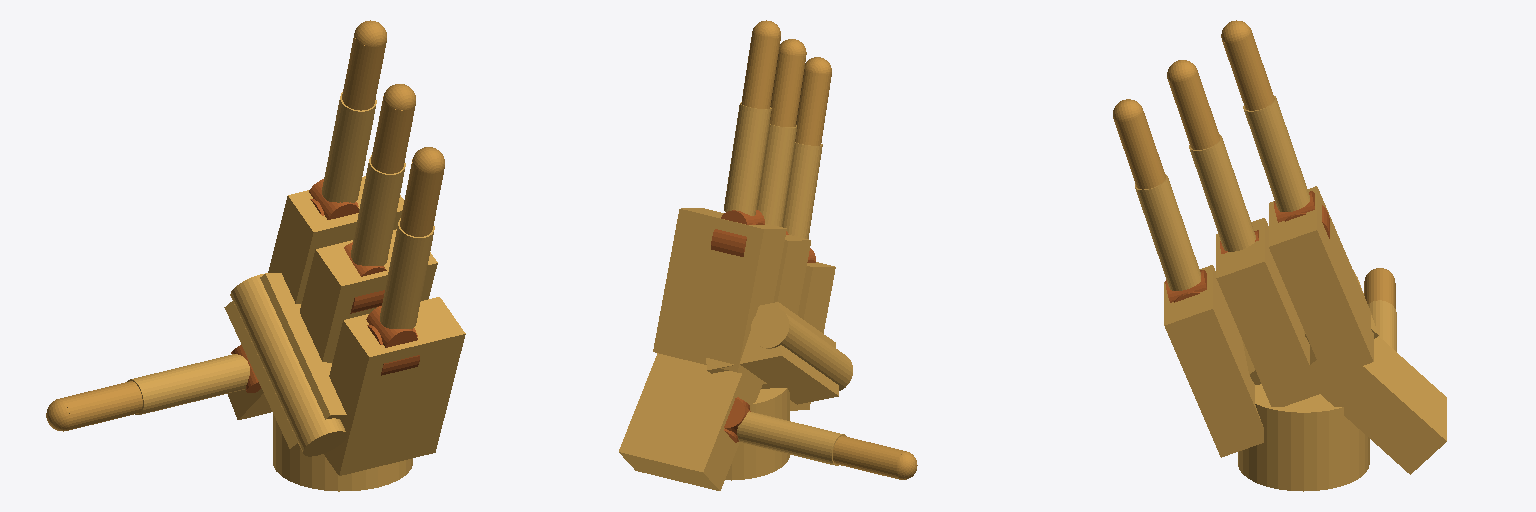
--- Facts derived from the render (not from the file) ---
The picture shows the robot from 3 angles, left to right: view 1: azimuth 30°, elevation 25°; view 2: azimuth 150°, elevation 25°; view 3: azimuth 270°, elevation 25°; orthographic projection.
Robot: sandia_hand_left — 41 links, 40 joints (12 revolute, 28 fixed); root link base; default pose: all joints at 0.
Visible links, largest first — view 1: left_palm, left_f3_1, left_f2_1, left_f1_1, left_f0_1, left_f3_2, left_f1_2, left_f2_2, left_f0_2, left_f2_0, left_f0_0, left_f1_0; view 2: left_palm, left_f0_1, left_f3_1, left_f1_1, left_f2_1, left_f0_2, left_f3_2, left_f2_2, left_f1_2, left_f0_0, left_f3_0; view 3: left_palm, left_f1_1, left_f2_1, left_f0_1, left_f1_2, left_f2_2, left_f0_2, left_f3_2, left_f3_1, left_f0_0.
Boxes of the visible links, x1=… form: left_palm: x1=224, y1=176, x2=465, y2=491; left_f3_1: x1=127, y1=354, x2=249, y2=414; left_f2_1: x1=380, y1=218, x2=434, y2=328; left_f1_1: x1=351, y1=155, x2=405, y2=265; left_f0_1: x1=322, y1=92, x2=376, y2=202; left_f3_2: x1=46, y1=381, x2=142, y2=431; left_f1_2: x1=371, y1=84, x2=415, y2=173; left_f2_2: x1=400, y1=147, x2=444, y2=236; left_f0_2: x1=342, y1=20, x2=386, y2=110; left_f2_0: x1=366, y1=306, x2=419, y2=375; left_f0_0: x1=309, y1=179, x2=358, y2=219; left_f1_0: x1=344, y1=242, x2=386, y2=313; left_palm: x1=619, y1=208, x2=852, y2=490; left_f0_1: x1=724, y1=102, x2=771, y2=215; left_f3_1: x1=737, y1=411, x2=846, y2=465; left_f1_1: x1=757, y1=124, x2=796, y2=226; left_f2_1: x1=782, y1=142, x2=822, y2=238; left_f0_2: x1=741, y1=20, x2=780, y2=108; left_f3_2: x1=833, y1=436, x2=917, y2=479; left_f2_2: x1=795, y1=57, x2=831, y2=145; left_f1_2: x1=770, y1=39, x2=806, y2=126; left_f0_0: x1=711, y1=210, x2=764, y2=256; left_f3_0: x1=724, y1=397, x2=750, y2=442; left_palm: x1=1164, y1=186, x2=1446, y2=491; left_f1_1: x1=1189, y1=134, x2=1255, y2=251; left_f2_1: x1=1135, y1=174, x2=1200, y2=290; left_f0_1: x1=1243, y1=96, x2=1309, y2=211; left_f1_2: x1=1167, y1=60, x2=1219, y2=149; left_f2_2: x1=1113, y1=99, x2=1165, y2=189; left_f0_2: x1=1221, y1=20, x2=1274, y2=110; left_f3_2: x1=1364, y1=268, x2=1395, y2=308; left_f3_1: x1=1368, y1=300, x2=1396, y2=351; left_f0_0: x1=1274, y1=191, x2=1329, y2=238.
Bounding box of the posed robot: 0.196 × 0.1924 × 0.2782 m (x, y, z).
Geometry: primitives only (box / cylinder / sphere), no mesh files.

robot.urdf — sandia_hand_left:
<?xml version="1.0" ?>
<!-- =================================================================================== -->
<!-- |    This document was autogenerated by xacro from sandia_hand_drake_left.urdf.xacro | -->
<!-- |    EDITING THIS FILE BY HAND IS NOT RECOMMENDED                                 | -->
<!-- =================================================================================== -->
<robot name="sandia_hand_left" xmlns:controller="http://playerstage.sourceforge.net/gazebo/xmlschema/#controller" xmlns:interface="http://playerstage.sourceforge.net/gazebo/xmlschema/#interface" xmlns:sensor="http://playerstage.sourceforge.net/gazebo/xmlschema/#sensor" xmlns:xacro="http://www.ros.org/wiki/xacro">
  <!-- derived from /usr/share/sandia-hand-5.1/ros/sandia_hand_description/robots/sandia_hand_left_on_box.urdf.xacro-->
  <!-- Commenting out urdf with meshes, using simple collision shapes instead -->
  <!--<xacro:include filename="$(find mit_drcsim_scripts)/models/mit_robot_hands/drake_urdfs/xacro/sandia_hand_drake.urdf.xacro" />-->
  <link name="base">
    <inertial>
      <mass value="0.001"/>
      <origin rpy="0 0 0" xyz="0 0 0.25"/>
      <inertia ixx="0.000001" ixy="0" ixz="0" iyy="0.000001" iyz="0" izz="0.000001"/>
    </inertial>
    <!-- <visual>
        <origin xyz="0 0 0.25" rpy="0 0 0" />
        <geometry>
            <box size="0.5 0.5 0.5" />
        </geometry>
    </visual>
    <collision>
        <origin xyz="0 0 0.25" rpy="0 0 0" />
        <geometry>
            <box size="0.5 0.5 0.5" />
        </geometry>
    </collision> -->
  </link>
  <link name="left_palm">
    <origin rpy="0 0 0" xyz="0 0 0"/>
    <inertial>
      <mass value="1.303"/>
      <origin xyz="0 0 0"/>
      <!-- solid sphere with 5cm radius -->
      <inertia ixx="0.001303" ixy="0" ixz="0" iyy="0.001303" iyz="0" izz="0.001303"/>
    </inertial>
    <!-- begin simple shape approximation of palm -->
    <!-- <collision group="default">
        <origin xyz="0.069 ${0.016 * reflect} 0.038" rpy="0 ${M_pi/2} ${-0.9 * reflect}"/>
        <geometry>
          <cylinder radius="0.013" length="0.100" />
        </geometry>
      </collision> -->
    <!-- <collision group="other">
        <origin xyz="0.064 ${0.008 * reflect} 0.021" rpy="0.41 0 ${-0.9 * reflect}"/>
        <geometry>
          <box size="0.09 .035 .05" />
        </geometry>
      </collision> -->
    <!-- <collision group="other">
        <origin xyz="0.02 0 -0.005" rpy="0 ${M_pi/2} 0"/>
        <geometry>
          <cylinder radius="0.038" length="0.05" />
        </geometry>
      </collision> -->
    <!-- <collision group="other">
        <origin xyz="0.11 ${-0.01*reflect} -0.005" rpy="0 0 ${0.37*reflect}"/>
        <geometry>
          <box size="0.09 .03 .06" />
        </geometry>
      </collision> -->
    <!-- <collision group="other">
        <origin xyz="0.09 ${0.02*reflect} -0.005" rpy="0 0 ${0.37*reflect}"/>
        <geometry>
          <box size="0.09 .03 .06" />
        </geometry>
      </collision> -->
    <!--<collision group="other">
        <origin xyz="0.060 ${0.050*reflect} -0.005" rpy="0 0 ${0.37*reflect}"/>
        <geometry>
          <box size="0.09 .03 .06" />
        </geometry>
      </collision> -->
    <!-- <collision group="other">
        <origin xyz="0.044 ${-0.04*reflect} -0.005" rpy="0 0 ${0.79*reflect}"/>
        <geometry>
          <box size="0.09 .03 .06" />
        </geometry>
      </collision>-->
    <!--   end simple shape approximation of palm -->
    <!-- begin visual shape approximation of palm -->
    <visual>
      <origin rpy="0 1.57079632679 0.9" xyz="0.069 -0.016 0.038"/>
      <geometry>
        <cylinder length="0.100" radius="0.013"/>
      </geometry>
      <material name="left_sandia_hand_skin">
        <color rgba="0.835 0.655 0.345 1.0"/>
      </material>
    </visual>
    <visual>
      <origin rpy="0.41 0 0.9" xyz="0.064 -0.008 0.021"/>
      <geometry>
        <box size="0.09 .035 .05"/>
      </geometry>
      <material name="left_sandia_hand_skin">
        <color rgba="0.835 0.655 0.345 1.0"/>
      </material>
    </visual>
    <visual>
      <origin rpy="0 1.57079632679 0" xyz="0.02 0 -0.005"/>
      <geometry>
        <cylinder length="0.05" radius="0.038"/>
      </geometry>
      <material name="left_sandia_hand_skin">
        <color rgba="0.835 0.655 0.345 1.0"/>
      </material>
    </visual>
    <visual>
      <origin rpy="0 0 -0.37" xyz="0.11 0.01 -0.005"/>
      <geometry>
        <box size="0.09 .03 .06"/>
      </geometry>
      <material name="left_sandia_hand_skin">
        <color rgba="0.835 0.655 0.345 1.0"/>
      </material>
    </visual>
    <visual>
      <origin rpy="0 0 -0.37" xyz="0.09 -0.02 -0.005"/>
      <geometry>
        <box size="0.09 .03 .06"/>
      </geometry>
      <material name="left_sandia_hand_skin">
        <color rgba="0.835 0.655 0.345 1.0"/>
      </material>
    </visual>
    <visual>
      <origin rpy="0 0 -0.37" xyz="0.060 -0.05 -0.005"/>
      <geometry>
        <box size="0.09 .03 .06"/>
      </geometry>
      <material name="left_sandia_hand_skin">
        <color rgba="0.835 0.655 0.345 1.0"/>
      </material>
    </visual>
    <visual>
      <origin rpy="0 0 -0.79" xyz="0.044 0.04 -0.005"/>
      <geometry>
        <box size="0.09 .03 .06"/>
      </geometry>
      <material name="left_sandia_hand_skin">
        <color rgba="0.835 0.655 0.345 1.0"/>
      </material>
    </visual>
    <!--   end visual shape approximation of palm -->
    <!-- begin collision mesh of f2 ->
      <collision group="default">
        <origin xyz="0 0 0" rpy="0 0 0"/>
        <geometry>
          <mesh filename="package://sandia_hand_description/meshes/palm.stl"/>
        </geometry>
      </collision>
      <!-   end collision mesh of f2 -->
    <!-- begin visual mesh of f2    ->
      <visual>
        <origin xyz="0 0 0" rpy="0 0 0"/>
        <geometry>
          <mesh filename="package://sandia_hand_description/meshes/palm.stl"/>
        </geometry>
        <material name="${side}_sandia_hand_skin">
          <color rgba="0.835 0.655 0.345 1.0"/>
        </material>
      </visual>
      <!-   end visual mesh of f2 -->
  </link>
  <joint name="left_sandia_hand_joint" type="fixed">
    <parent link="base"/>
    <child link="left_palm"/>
    <origin rpy="0 -1.57079 0" xyz="0 0 0.0"/>
  </joint>
  <link name="left_f0_base">
    <origin rpy="0 0 0" xyz="0 0 0"/>
    <inertial>
      <!-- total mass is 2.303 kg, palm is about 1.303 kg, distribute the rest into _base -->
      <mass value="0.250"/>
      <!-- (2.303 - 1.303) / 4 -->
      <origin xyz="0 0 0"/>
      <!-- model as sphere with radius of 1cm -->
      <inertia ixx="0.00001" ixy="0" ixz="0" iyy="0.00001" iyz="0" izz="0.00001"/>
    </inertial>
  </link>
  <link name="left_f0_fixed_accel">
    <origin rpy="0 0 0" xyz="0 0 0"/>
    <inertial>
      <mass value="0.01"/>
      <origin xyz="0 0 0"/>
      <inertia ixx="0.000001" ixy="0" ixz="0" iyy="0.000001" iyz="0" izz="0.000001"/>
    </inertial>
    <!-- ############ MIT ADDITION ############ -->
    <collision>
      <origin rpy="0 0 0" xyz="0 0 0.05"/>
      <geometry>
        <sphere radius="0"/>
      </geometry>
    </collision>
    <!-- ############    END     ############ -->
  </link>
  <link name="left_f0_0">
    <origin rpy="0 0 0" xyz="0 0 0"/>
    <inertial>
      <mass value="0.106"/>
      <!-- F1 -->
      <origin xyz="0 0 0"/>
      <!-- solid cylinder -->
      <inertia ixx="0.000011925" ixy="0" ixz="0" iyy="0.00011505" iyz="0" izz="0.00011505"/>
    </inertial>
    <!-- begin simple shape approximation of f0 -->
    <!-- <collision group="default">
        <origin xyz="0 0 0.003" rpy="0 0 0"/>
        <geometry>
          <cylinder radius="0.015" length="0.023" />
        </geometry>
      </collision> -->
    <!-- <collision group="other">
        <origin xyz="0.011 0 0.003" rpy="${M_pi/2} 0 0"/>
        <geometry>
          <cylinder radius="0.01" length="0.023" />
        </geometry>
      </collision> -->
    <!--   end simple shape approximation of f0 -->
    <!-- begin visual shape approximation of f0 -->
    <visual>
      <origin rpy="0 0 0" xyz="0 0 0.003"/>
      <geometry>
        <cylinder length="0.023" radius="0.015"/>
      </geometry>
      <material name="left_sandia_hand_skin_suntan">
        <color rgba="0.7 0.4 0.2 1.0"/>
      </material>
    </visual>
    <visual>
      <origin rpy="1.57079632679 0 0" xyz="0.011 0 0.003"/>
      <geometry>
        <cylinder length="0.023" radius="0.01"/>
      </geometry>
      <material name="left_sandia_hand_skin_suntan">
        <color rgba="0.7 0.4 0.2 1.0"/>
      </material>
    </visual>
    <!--   end visual shape approximation of f0 -->
    <!-- begin collision mesh of f0 ->
      <collision group="default">
        <origin xyz="0 0 0" rpy="0 0 0"/>
        <geometry>
          <mesh filename="package://sandia_hand_description/meshes/f0.stl"/>
        </geometry>
      </collision>
      <!-   end collision mesh of f0 -->
    <!-- begin visual mesh of f0 ->
      <visual>
        <origin xyz="0 0 0" rpy="0 0 0"/>
        <geometry>
          <mesh filename="package://sandia_hand_description/meshes/f0.stl"/>
        </geometry>
        <material name="${side}_sandia_hand_skin_suntan">
          <color rgba="0.7 0.4 0.2 1.0"/>
        </material>
      </visual>
      <!-   end visual mesh of f0 -->
  </link>
  <link name="left_f0_1">
    <origin rpy="0 0 0" xyz="0 0 0"/>
    <inertial>
      <mass value="0.033"/>
      <!-- F2 -->
      <origin xyz="0 0 0"/>
      <!-- solid cylinder -->
      <inertia ixx="0.00000165" ixy="0" ixz="0" iyy="0.00001316975" iyz="0" izz="0.00001316975"/>
    </inertial>
    <!-- begin simple shape approximation of f1 -->
    <!-- <collision group="default">
        <origin xyz="0.024 0 0" rpy="0 ${M_pi/2} 0"/>
        <geometry>
          <cylinder radius="0.01" length="0.067" />
        </geometry>
      </collision> -->
    <!--   end simple shape approximation of f1 -->
    <!-- begin visual shape approximation of f1 -->
    <visual>
      <origin rpy="0 1.57079632679 0" xyz="0.024 0 0"/>
      <geometry>
        <cylinder length="0.067" radius="0.01"/>
      </geometry>
      <material name="left_sandia_hand_skin">
        <color rgba="0.835 0.655 0.345 1.0"/>
      </material>
    </visual>
    <!--   end visual shape approximation of f1 -->
    <!-- begin collision mesh of f1 ->
      <collision group="default">
        <origin xyz="0 0 0" rpy="0 0 0"/>
        <geometry>
          <mesh filename="package://sandia_hand_description/meshes/f1.stl"/>
        </geometry>
      </collision>
      <!-   end collision mesh of f1 -->
    <!-- begin visual mesh of f1 ->
      <visual>
        <origin xyz="0 0 0" rpy="0 0 0"/>
        <geometry>
          <mesh filename="package://sandia_hand_description/meshes/f1.stl"/>
        </geometry>
        <material name="${side}_sandia_hand_skin">
          <color rgba="0.835 0.655 0.345 1.0"/>
        </material>
      </visual>
      <!-   end visual mesh of f1 -->
  </link>
  <link name="left_f0_1_accel">
    <origin rpy="0 0 0" xyz="0 0 0"/>
    <inertial>
      <mass value="0.01"/>
      <origin xyz="0 0 0"/>
      <inertia ixx="0.000001" ixy="0" ixz="0" iyy="0.000001" iyz="0" izz="0.000001"/>
    </inertial>
    <!-- ############ MIT ADDITION ############ -->
    <!--      <collision>-->
    <!--        <origin rpy="0 0 0" xyz="0 0 0.01"/>-->
    <!--        <geometry>-->
    <!--          <sphere radius="0"/>-->
    <!--        </geometry>-->
    <!--      </collision>  -->
    <!-- ############    END     ############ -->
  </link>
  <link name="left_f0_2">
    <origin rpy="0 0 0" xyz="0 0 0"/>
    <inertial>
      <mass value="0.033"/>
      <!-- F3 -->
      <origin xyz="0 0 0"/>
      <!-- solid cylinder -->
      <inertia ixx="0.0000013365" ixy="0" ixz="0" iyy="0.000009603" iyz="0" izz="0.000009603"/>
    </inertial>
    <!-- begin simple shape approximation of f2 -->
    <!-- <collision group="default">
        <origin xyz="0.024 0 0" rpy="0 ${M_pi/2} 0"/>
        <geometry>
          <cylinder radius="0.009" length="0.057" />
        </geometry>
      </collision> -->
    <!-- <collision group="other">
        <origin xyz="0.052 0 0" rpy="0 0 0"/>
        <geometry>
          <sphere radius="0.009" />
        </geometry>
      </collision> -->
    <!--   end simple shape approximation of f2 -->
    <!-- begin visual shape approximation of f2 -->
    <visual>
      <origin rpy="0 1.57079632679 0" xyz="0.024 0 0"/>
      <geometry>
        <cylinder length="0.057" radius="0.009"/>
      </geometry>
      <material name="left_sandia_hand_skin_suntan">
        <color rgba="0.8 0.6 0.3 1.0"/>
      </material>
    </visual>
    <visual>
      <origin rpy="0 0 0" xyz="0.052 0 0"/>
      <geometry>
        <sphere radius="0.009"/>
      </geometry>
      <material name="left_sandia_hand_skin_suntan">
        <color rgba="0.8 0.6 0.3 1.0"/>
      </material>
    </visual>
    <!-- begin collision mesh of f2    ->
      <collision group="default">
        <origin xyz="0 0 0" rpy="0 0 0"/>
        <geometry>
          <mesh filename="package://sandia_hand_description/meshes/f2.stl"/>
        </geometry>
      </collision>
      <!-   end collision mesh of f2 -->
    <!-- begin visual mesh of f2    ->
      <visual>
        <origin xyz="0 0 0" rpy="0 0 0"/>
        <geometry>
          <mesh filename="package://sandia_hand_description/meshes/f2.stl"/>
        </geometry>
        <material name="${side}_sandia_hand_skin_suntan">
          <color rgba="0.8 0.6 0.3 1.0"/>
        </material>
      </visual>
      <!-   end visual mesh of f2 -->
  </link>
  <link name="left_f0_2_accel">
    <origin rpy="0 0 0" xyz="0 0 0"/>
    <inertial>
      <mass value="0.01"/>
      <origin xyz="0 0 0"/>
      <inertia ixx="0.000001" ixy="0" ixz="0" iyy="0.000001" iyz="0" izz="0.000001"/>
    </inertial>
    <!-- ############ MIT ADDITION ############ -->
    <collision>
      <origin rpy="0 0 0" xyz="0 0 0.01"/>
      <geometry>
        <sphere radius="0"/>
      </geometry>
    </collision>
    <!-- ############    END     ############ -->
  </link>
  <link name="left_f0_2_accel_dummy1">
    <origin rpy="0 0 0" xyz="0 0 0"/>
    <inertial>
      <mass value="0.001"/>
      <origin xyz="0 0 0"/>
      <inertia ixx="0.01" ixy="0" ixz="0" iyy="0.01" iyz="0" izz="0.01"/>
    </inertial>
    <collision>
      <origin rpy="0 0 0" xyz="-0.02 0.0 0.01"/>
      <geometry>
        <sphere radius="0"/>
      </geometry>
    </collision>
  </link>
  <joint name="left_f0_2_accel_dummy1" type="fixed">
    <parent link="left_f0_2"/>
    <child link="left_f0_2_accel_dummy1"/>
    <origin rpy="-1.57079632679 0 0" xyz="0.04 0 0"/>
  </joint>
  <link name="left_f0_2_accel_dummy2">
    <origin rpy="0 0 0" xyz="0 0 0"/>
    <inertial>
      <mass value="0.001"/>
      <origin xyz="0 0 0"/>
      <inertia ixx="0.01" ixy="0" ixz="0" iyy="0.01" iyz="0" izz="0.01"/>
    </inertial>
    <collision>
      <origin rpy="0 0 0" xyz="0.0 0.0 -0.01"/>
      <geometry>
        <sphere radius="0"/>
      </geometry>
    </collision>
  </link>
  <joint name="left_f0_2_accel_dummy2" type="fixed">
    <parent link="left_f0_2"/>
    <child link="left_f0_2_accel_dummy2"/>
    <origin rpy="-1.57079632679 0 0" xyz="0.04 0 0"/>
  </joint>
  <joint name="left_f0_base" type="fixed">
    <parent link="left_palm"/>
    <child link="left_f0_base"/>
    <origin rpy="0 0 -0.3" xyz="0.14 0.0 0"/>
  </joint>
  <joint name="left_f0_j1" type="revolute">
    <axis xyz="0 0 1"/>
    <parent link="left_f0_0"/>
    <child link="left_f0_1"/>
    <limit effort="1" lower="-1.57079632679" upper="1.57079632679" velocity="1"/>
    <safety_controller k_position="1000.0" k_velocity="1000.0" soft_lower_limit="-11.57079" soft_upper_limit="11.57079"/>
    <dynamics damping="0.2"/>
    <origin rpy="1.57079632679 0 0" xyz="0.028 0 0"/>
  </joint>
  <joint name="left_f0_j2" type="revolute">
    <axis xyz="0 0 1"/>
    <parent link="left_f0_1"/>
    <child link="left_f0_2"/>
    <origin rpy="0 0 0" xyz="0.05 0 0"/>
    <safety_controller k_position="1000.0" k_velocity="1000.0" soft_lower_limit="-11.57079" soft_upper_limit="11.57079"/>
    <dynamics damping="0.2"/>
    <limit effort="1" lower="-1.57079632679" upper="1.57079632679" velocity="1"/>
  </joint>
  <joint name="left_f0_fixed_accel" type="fixed">
    <parent link="left_f0_base"/>
    <child link="left_f0_fixed_accel"/>
    <origin rpy="0 0 0" xyz="-0.05 0 0"/>
  </joint>
  <joint name="left_f0_1_accel" type="fixed">
    <parent link="left_f0_1"/>
    <child link="left_f0_1_accel"/>
    <origin rpy="-1.57079632679 0 0" xyz="0.03 0 0"/>
  </joint>
  <joint name="left_f0_2_accel" type="fixed">
    <parent link="left_f0_2"/>
    <child link="left_f0_2_accel"/>
    <origin rpy="-1.57079632679 0 0" xyz="0.04 0 0"/>
  </joint>
  <link name="left_f0_knuckle_dummy_contact">
    <origin rpy="0 0 0" xyz="0 0 0"/>
    <inertial>
      <mass value="0.001"/>
      <origin xyz="0 0 0"/>
      <inertia ixx="0.001" ixy="0" ixz="0" iyy="0.001" iyz="0" izz="0.001"/>
    </inertial>
    <collision>
      <origin rpy="0 0 0" xyz="0.058 0 0.034"/>
      <!--TODO: THERE IS A ERROR HERE: xyz needs to be "0.058 0 0.034" instead of "0.1 0 0.05"-->
      <geometry>
        <sphere radius="0"/>
      </geometry>
    </collision>
  </link>
  <joint name="left_f0_knuckle_dummy_contact" type="fixed">
    <parent link="left_f0_base"/>
    <child link="left_f0_knuckle_dummy_contact"/>
    <origin rpy="0 0 0" xyz="-0.05 0 0"/>
  </joint>
  <transmission name="left_f0_j0" type="pr2_mechanism_model/SimpleTransmission">
    <joint name="left_f0_j0"/>
    <actuator name="left_f0_j0_motor"/>
    <mechanicalReduction>1</mechanicalReduction>
  </transmission>
  <transmission name="left_f0_j1" type="pr2_mechanism_model/SimpleTransmission">
    <joint name="left_f0_j1"/>
    <actuator name="left_f0_j1_motor"/>
    <mechanicalReduction>1</mechanicalReduction>
  </transmission>
  <transmission name="left_f0_j2" type="pr2_mechanism_model/SimpleTransmission">
    <joint name="left_f0_j2"/>
    <actuator name="left_f0_j2_motor"/>
    <mechanicalReduction>1</mechanicalReduction>
  </transmission>
  <link name="left_f1_base">
    <origin rpy="0 0 0" xyz="0 0 0"/>
    <inertial>
      <!-- total mass is 2.303 kg, palm is about 1.303 kg, distribute the rest into _base -->
      <mass value="0.250"/>
      <!-- (2.303 - 1.303) / 4 -->
      <origin xyz="0 0 0"/>
      <!-- model as sphere with radius of 1cm -->
      <inertia ixx="0.00001" ixy="0" ixz="0" iyy="0.00001" iyz="0" izz="0.00001"/>
    </inertial>
  </link>
  <link name="left_f1_fixed_accel">
    <origin rpy="0 0 0" xyz="0 0 0"/>
    <inertial>
      <mass value="0.01"/>
      <origin xyz="0 0 0"/>
      <inertia ixx="0.000001" ixy="0" ixz="0" iyy="0.000001" iyz="0" izz="0.000001"/>
    </inertial>
    <!-- ############ MIT ADDITION ############ -->
    <collision>
      <origin rpy="0 0 0" xyz="0 0 0.05"/>
      <geometry>
        <sphere radius="0"/>
      </geometry>
    </collision>
    <!-- ############    END     ############ -->
  </link>
  <link name="left_f1_0">
    <origin rpy="0 0 0" xyz="0 0 0"/>
    <inertial>
      <mass value="0.106"/>
      <!-- F1 -->
      <origin xyz="0 0 0"/>
      <!-- solid cylinder -->
      <inertia ixx="0.000011925" ixy="0" ixz="0" iyy="0.00011505" iyz="0" izz="0.00011505"/>
    </inertial>
    <!-- begin simple shape approximation of f0 -->
    <!-- <collision group="default">
        <origin xyz="0 0 0.003" rpy="0 0 0"/>
        <geometry>
          <cylinder radius="0.015" length="0.023" />
        </geometry>
      </collision> -->
    <!-- <collision group="other">
        <origin xyz="0.011 0 0.003" rpy="${M_pi/2} 0 0"/>
        <geometry>
          <cylinder radius="0.01" length="0.023" />
        </geometry>
      </collision> -->
    <!--   end simple shape approximation of f0 -->
    <!-- begin visual shape approximation of f0 -->
    <visual>
      <origin rpy="0 0 0" xyz="0 0 0.003"/>
      <geometry>
        <cylinder length="0.023" radius="0.015"/>
      </geometry>
      <material name="left_sandia_hand_skin_suntan">
        <color rgba="0.7 0.4 0.2 1.0"/>
      </material>
    </visual>
    <visual>
      <origin rpy="1.57079632679 0 0" xyz="0.011 0 0.003"/>
      <geometry>
        <cylinder length="0.023" radius="0.01"/>
      </geometry>
      <material name="left_sandia_hand_skin_suntan">
        <color rgba="0.7 0.4 0.2 1.0"/>
      </material>
    </visual>
    <!--   end visual shape approximation of f0 -->
    <!-- begin collision mesh of f0 ->
      <collision group="default">
        <origin xyz="0 0 0" rpy="0 0 0"/>
        <geometry>
          <mesh filename="package://sandia_hand_description/meshes/f0.stl"/>
        </geometry>
      </collision>
      <!-   end collision mesh of f0 -->
    <!-- begin visual mesh of f0 ->
      <visual>
        <origin xyz="0 0 0" rpy="0 0 0"/>
        <geometry>
          <mesh filename="package://sandia_hand_description/meshes/f0.stl"/>
        </geometry>
        <material name="${side}_sandia_hand_skin_suntan">
          <color rgba="0.7 0.4 0.2 1.0"/>
        </material>
      </visual>
      <!-   end visual mesh of f0 -->
  </link>
  <link name="left_f1_1">
    <origin rpy="0 0 0" xyz="0 0 0"/>
    <inertial>
      <mass value="0.033"/>
      <!-- F2 -->
      <origin xyz="0 0 0"/>
      <!-- solid cylinder -->
      <inertia ixx="0.00000165" ixy="0" ixz="0" iyy="0.00001316975" iyz="0" izz="0.00001316975"/>
    </inertial>
    <!-- begin simple shape approximation of f1 -->
    <!-- <collision group="default">
        <origin xyz="0.024 0 0" rpy="0 ${M_pi/2} 0"/>
        <geometry>
          <cylinder radius="0.01" length="0.067" />
        </geometry>
      </collision> -->
    <!--   end simple shape approximation of f1 -->
    <!-- begin visual shape approximation of f1 -->
    <visual>
      <origin rpy="0 1.57079632679 0" xyz="0.024 0 0"/>
      <geometry>
        <cylinder length="0.067" radius="0.01"/>
      </geometry>
      <material name="left_sandia_hand_skin">
        <color rgba="0.835 0.655 0.345 1.0"/>
      </material>
    </visual>
    <!--   end visual shape approximation of f1 -->
    <!-- begin collision mesh of f1 ->
      <collision group="default">
        <origin xyz="0 0 0" rpy="0 0 0"/>
        <geometry>
          <mesh filename="package://sandia_hand_description/meshes/f1.stl"/>
        </geometry>
      </collision>
      <!-   end collision mesh of f1 -->
    <!-- begin visual mesh of f1 ->
      <visual>
        <origin xyz="0 0 0" rpy="0 0 0"/>
        <geometry>
          <mesh filename="package://sandia_hand_description/meshes/f1.stl"/>
        </geometry>
        <material name="${side}_sandia_hand_skin">
          <color rgba="0.835 0.655 0.345 1.0"/>
        </material>
      </visual>
      <!-   end visual mesh of f1 -->
  </link>
  <link name="left_f1_1_accel">
    <origin rpy="0 0 0" xyz="0 0 0"/>
    <inertial>
      <mass value="0.01"/>
      <origin xyz="0 0 0"/>
      <inertia ixx="0.000001" ixy="0" ixz="0" iyy="0.000001" iyz="0" izz="0.000001"/>
    </inertial>
    <!-- ############ MIT ADDITION ############ -->
    <!--      <collision>-->
    <!--        <origin rpy="0 0 0" xyz="0 0 0.01"/>-->
    <!--        <geometry>-->
    <!--          <sphere radius="0"/>-->
    <!--        </geometry>-->
    <!--      </collision>  -->
    <!-- ############    END     ############ -->
  </link>
  <link name="left_f1_2">
    <origin rpy="0 0 0" xyz="0 0 0"/>
    <inertial>
      <mass value="0.033"/>
      <!-- F3 -->
      <origin xyz="0 0 0"/>
      <!-- solid cylinder -->
      <inertia ixx="0.0000013365" ixy="0" ixz="0" iyy="0.000009603" iyz="0" izz="0.000009603"/>
    </inertial>
    <!-- begin simple shape approximation of f2 -->
    <!-- <collision group="default">
        <origin xyz="0.024 0 0" rpy="0 ${M_pi/2} 0"/>
        <geometry>
          <cylinder radius="0.009" length="0.057" />
        </geometry>
      </collision> -->
    <!-- <collision group="other">
        <origin xyz="0.052 0 0" rpy="0 0 0"/>
        <geometry>
          <sphere radius="0.009" />
        </geometry>
      </collision> -->
    <!--   end simple shape approximation of f2 -->
    <!-- begin visual shape approximation of f2 -->
    <visual>
      <origin rpy="0 1.57079632679 0" xyz="0.024 0 0"/>
      <geometry>
        <cylinder length="0.057" radius="0.009"/>
      </geometry>
      <material name="left_sandia_hand_skin_suntan">
        <color rgba="0.8 0.6 0.3 1.0"/>
      </material>
    </visual>
    <visual>
      <origin rpy="0 0 0" xyz="0.052 0 0"/>
      <geometry>
        <sphere radius="0.009"/>
      </geometry>
      <material name="left_sandia_hand_skin_suntan">
        <color rgba="0.8 0.6 0.3 1.0"/>
      </material>
    </visual>
    <!-- begin collision mesh of f2    ->
      <collision group="default">
        <origin xyz="0 0 0" rpy="0 0 0"/>
        <geometry>
          <mesh filename="package://sandia_hand_description/meshes/f2.stl"/>
        </geometry>
      </collision>
      <!-   end collision mesh of f2 -->
    <!-- begin visual mesh of f2    ->
      <visual>
        <origin xyz="0 0 0" rpy="0 0 0"/>
        <geometry>
          <mesh filename="package://sandia_hand_description/meshes/f2.stl"/>
        </geometry>
        <material name="${side}_sandia_hand_skin_suntan">
          <color rgba="0.8 0.6 0.3 1.0"/>
        </material>
      </visual>
      <!-   end visual mesh of f2 -->
  </link>
  <link name="left_f1_2_accel">
    <origin rpy="0 0 0" xyz="0 0 0"/>
    <inertial>
      <mass value="0.01"/>
      <origin xyz="0 0 0"/>
      <inertia ixx="0.000001" ixy="0" ixz="0" iyy="0.000001" iyz="0" izz="0.000001"/>
    </inertial>
    <!-- ############ MIT ADDITION ############ -->
    <collision>
      <origin rpy="0 0 0" xyz="0 0 0.01"/>
      <geometry>
        <sphere radius="0"/>
      </geometry>
    </collision>
    <!-- ############    END     ############ -->
  </link>
  <link name="left_f1_2_accel_dummy1">
    <origin rpy="0 0 0" xyz="0 0 0"/>
    <inertial>
      <mass value="0.001"/>
      <origin xyz="0 0 0"/>
      <inertia ixx="0.01" ixy="0" ixz="0" iyy="0.01" iyz="0" izz="0.01"/>
    </inertial>
    <collision>
      <origin rpy="0 0 0" xyz="-0.02 0.0 0.01"/>
      <geometry>
        <sphere radius="0"/>
      </geometry>
    </collision>
  </link>
  <joint name="left_f1_2_accel_dummy1" type="fixed">
    <parent link="left_f1_2"/>
    <child link="left_f1_2_accel_dummy1"/>
    <origin rpy="-1.57079632679 0 0" xyz="0.04 0 0"/>
  </joint>
  <link name="left_f1_2_accel_dummy2">
    <origin rpy="0 0 0" xyz="0 0 0"/>
    <inertial>
      <mass value="0.001"/>
      <origin xyz="0 0 0"/>
      <inertia ixx="0.01" ixy="0" ixz="0" iyy="0.01" iyz="0" izz="0.01"/>
    </inertial>
    <collision>
      <origin rpy="0 0 0" xyz="0.0 0.0 -0.01"/>
      <geometry>
        <sphere radius="0"/>
      </geometry>
    </collision>
  </link>
  <joint name="left_f1_2_accel_dummy2" type="fixed">
    <parent link="left_f1_2"/>
    <child link="left_f1_2_accel_dummy2"/>
    <origin rpy="-1.57079632679 0 0" xyz="0.04 0 0"/>
  </joint>
  <joint name="left_f1_base" type="fixed">
    <parent link="left_palm"/>
    <child link="left_f1_base"/>
    <origin rpy="0 0 -0.3" xyz="0.115 -0.03122 0"/>
  </joint>
  <joint name="left_f1_j1" type="revolute">
    <axis xyz="0 0 1"/>
    <parent link="left_f1_0"/>
    <child link="left_f1_1"/>
    <limit effort="1" lower="-1.57079632679" upper="1.57079632679" velocity="1"/>
    <safety_controller k_position="1000.0" k_velocity="1000.0" soft_lower_limit="-11.57079" soft_upper_limit="11.57079"/>
    <dynamics damping="0.2"/>
    <origin rpy="1.57079632679 0 0" xyz="0.028 0 0"/>
  </joint>
  <joint name="left_f1_j2" type="revolute">
    <axis xyz="0 0 1"/>
    <parent link="left_f1_1"/>
    <child link="left_f1_2"/>
    <origin rpy="0 0 0" xyz="0.05 0 0"/>
    <safety_controller k_position="1000.0" k_velocity="1000.0" soft_lower_limit="-11.57079" soft_upper_limit="11.57079"/>
    <dynamics damping="0.2"/>
    <limit effort="1" lower="-1.57079632679" upper="1.57079632679" velocity="1"/>
  </joint>
  <joint name="left_f1_fixed_accel" type="fixed">
    <parent link="left_f1_base"/>
    <child link="left_f1_fixed_accel"/>
    <origin rpy="0 0 0" xyz="-0.05 0 0"/>
  </joint>
  <joint name="left_f1_1_accel" type="fixed">
    <parent link="left_f1_1"/>
    <child link="left_f1_1_accel"/>
    <origin rpy="-1.57079632679 0 0" xyz="0.03 0 0"/>
  </joint>
  <joint name="left_f1_2_accel" type="fixed">
    <parent link="left_f1_2"/>
    <child link="left_f1_2_accel"/>
    <origin rpy="-1.57079632679 0 0" xyz="0.04 0 0"/>
  </joint>
  <link name="left_f1_knuckle_dummy_contact">
    <origin rpy="0 0 0" xyz="0 0 0"/>
    <inertial>
      <mass value="0.001"/>
      <origin xyz="0 0 0"/>
      <inertia ixx="0.001" ixy="0" ixz="0" iyy="0.001" iyz="0" izz="0.001"/>
    </inertial>
    <collision>
      <origin rpy="0 0 0" xyz="0.058 0 0.034"/>
      <!--TODO: THERE IS A ERROR HERE: xyz needs to be "0.058 0 0.034" instead of "0.1 0 0.05"-->
      <geometry>
        <sphere radius="0"/>
      </geometry>
    </collision>
  </link>
  <joint name="left_f1_knuckle_dummy_contact" type="fixed">
    <parent link="left_f1_base"/>
    <child link="left_f1_knuckle_dummy_contact"/>
    <origin rpy="0 0 0" xyz="-0.05 0 0"/>
  </joint>
  <transmission name="left_f1_j0" type="pr2_mechanism_model/SimpleTransmission">
    <joint name="left_f1_j0"/>
    <actuator name="left_f1_j0_motor"/>
    <mechanicalReduction>1</mechanicalReduction>
  </transmission>
  <transmission name="left_f1_j1" type="pr2_mechanism_model/SimpleTransmission">
    <joint name="left_f1_j1"/>
    <actuator name="left_f1_j1_motor"/>
    <mechanicalReduction>1</mechanicalReduction>
  </transmission>
  <transmission name="left_f1_j2" type="pr2_mechanism_model/SimpleTransmission">
    <joint name="left_f1_j2"/>
    <actuator name="left_f1_j2_motor"/>
    <mechanicalReduction>1</mechanicalReduction>
  </transmission>
  <link name="left_f2_base">
    <origin rpy="0 0 0" xyz="0 0 0"/>
    <inertial>
      <!-- total mass is 2.303 kg, palm is about 1.303 kg, distribute the rest into _base -->
      <mass value="0.250"/>
      <!-- (2.303 - 1.303) / 4 -->
      <origin xyz="0 0 0"/>
      <!-- model as sphere with radius of 1cm -->
      <inertia ixx="0.00001" ixy="0" ixz="0" iyy="0.00001" iyz="0" izz="0.00001"/>
    </inertial>
  </link>
  <link name="left_f2_fixed_accel">
    <origin rpy="0 0 0" xyz="0 0 0"/>
    <inertial>
      <mass value="0.01"/>
      <origin xyz="0 0 0"/>
      <inertia ixx="0.000001" ixy="0" ixz="0" iyy="0.000001" iyz="0" izz="0.000001"/>
    </inertial>
    <!-- ############ MIT ADDITION ############ -->
    <collision>
      <origin rpy="0 0 0" xyz="0 0 0.05"/>
      <geometry>
        <sphere radius="0"/>
      </geometry>
    </collision>
    <!-- ############    END     ############ -->
  </link>
  <link name="left_f2_0">
    <origin rpy="0 0 0" xyz="0 0 0"/>
    <inertial>
      <mass value="0.106"/>
      <!-- F1 -->
      <origin xyz="0 0 0"/>
      <!-- solid cylinder -->
      <inertia ixx="0.000011925" ixy="0" ixz="0" iyy="0.00011505" iyz="0" izz="0.00011505"/>
    </inertial>
    <!-- begin simple shape approximation of f0 -->
    <!-- <collision group="default">
        <origin xyz="0 0 0.003" rpy="0 0 0"/>
        <geometry>
          <cylinder radius="0.015" length="0.023" />
        </geometry>
      </collision> -->
    <!-- <collision group="other">
        <origin xyz="0.011 0 0.003" rpy="${M_pi/2} 0 0"/>
        <geometry>
          <cylinder radius="0.01" length="0.023" />
        </geometry>
      </collision> -->
    <!--   end simple shape approximation of f0 -->
    <!-- begin visual shape approximation of f0 -->
    <visual>
      <origin rpy="0 0 0" xyz="0 0 0.003"/>
      <geometry>
        <cylinder length="0.023" radius="0.015"/>
      </geometry>
      <material name="left_sandia_hand_skin_suntan">
        <color rgba="0.7 0.4 0.2 1.0"/>
      </material>
    </visual>
    <visual>
      <origin rpy="1.57079632679 0 0" xyz="0.011 0 0.003"/>
      <geometry>
        <cylinder length="0.023" radius="0.01"/>
      </geometry>
      <material name="left_sandia_hand_skin_suntan">
        <color rgba="0.7 0.4 0.2 1.0"/>
      </material>
    </visual>
    <!--   end visual shape approximation of f0 -->
    <!-- begin collision mesh of f0 ->
      <collision group="default">
        <origin xyz="0 0 0" rpy="0 0 0"/>
        <geometry>
          <mesh filename="package://sandia_hand_description/meshes/f0.stl"/>
        </geometry>
      </collision>
      <!-   end collision mesh of f0 -->
    <!-- begin visual mesh of f0 ->
      <visual>
        <origin xyz="0 0 0" rpy="0 0 0"/>
        <geometry>
          <mesh filename="package://sandia_hand_description/meshes/f0.stl"/>
        </geometry>
        <material name="${side}_sandia_hand_skin_suntan">
          <color rgba="0.7 0.4 0.2 1.0"/>
        </material>
      </visual>
      <!-   end visual mesh of f0 -->
  </link>
  <link name="left_f2_1">
    <origin rpy="0 0 0" xyz="0 0 0"/>
    <inertial>
      <mass value="0.033"/>
      <!-- F2 -->
      <origin xyz="0 0 0"/>
      <!-- solid cylinder -->
      <inertia ixx="0.00000165" ixy="0" ixz="0" iyy="0.00001316975" iyz="0" izz="0.00001316975"/>
    </inertial>
    <!-- begin simple shape approximation of f1 -->
    <!-- <collision group="default">
        <origin xyz="0.024 0 0" rpy="0 ${M_pi/2} 0"/>
        <geometry>
          <cylinder radius="0.01" length="0.067" />
        </geometry>
      </collision> -->
    <!--   end simple shape approximation of f1 -->
    <!-- begin visual shape approximation of f1 -->
    <visual>
      <origin rpy="0 1.57079632679 0" xyz="0.024 0 0"/>
      <geometry>
        <cylinder length="0.067" radius="0.01"/>
      </geometry>
      <material name="left_sandia_hand_skin">
        <color rgba="0.835 0.655 0.345 1.0"/>
      </material>
    </visual>
    <!--   end visual shape approximation of f1 -->
    <!-- begin collision mesh of f1 ->
      <collision group="default">
        <origin xyz="0 0 0" rpy="0 0 0"/>
        <geometry>
          <mesh filename="package://sandia_hand_description/meshes/f1.stl"/>
        </geometry>
      </collision>
      <!-   end collision mesh of f1 -->
    <!-- begin visual mesh of f1 ->
      <visual>
        <origin xyz="0 0 0" rpy="0 0 0"/>
        <geometry>
          <mesh filename="package://sandia_hand_description/meshes/f1.stl"/>
        </geometry>
        <material name="${side}_sandia_hand_skin">
          <color rgba="0.835 0.655 0.345 1.0"/>
        </material>
      </visual>
      <!-   end visual mesh of f1 -->
  </link>
  <link name="left_f2_1_accel">
    <origin rpy="0 0 0" xyz="0 0 0"/>
    <inertial>
      <mass value="0.01"/>
      <origin xyz="0 0 0"/>
      <inertia ixx="0.000001" ixy="0" ixz="0" iyy="0.000001" iyz="0" izz="0.000001"/>
    </inertial>
    <!-- ############ MIT ADDITION ############ -->
    <!--      <collision>-->
    <!--        <origin rpy="0 0 0" xyz="0 0 0.01"/>-->
    <!--        <geometry>-->
    <!--          <sphere radius="0"/>-->
    <!--        </geometry>-->
    <!--      </collision>  -->
    <!-- ############    END     ############ -->
  </link>
  <link name="left_f2_2">
    <origin rpy="0 0 0" xyz="0 0 0"/>
    <inertial>
      <mass value="0.033"/>
      <!-- F3 -->
      <origin xyz="0 0 0"/>
      <!-- solid cylinder -->
      <inertia ixx="0.0000013365" ixy="0" ixz="0" iyy="0.000009603" iyz="0" izz="0.000009603"/>
    </inertial>
    <!-- begin simple shape approximation of f2 -->
    <!-- <collision group="default">
        <origin xyz="0.024 0 0" rpy="0 ${M_pi/2} 0"/>
        <geometry>
          <cylinder radius="0.009" length="0.057" />
        </geometry>
      </collision> -->
    <!-- <collision group="other">
        <origin xyz="0.052 0 0" rpy="0 0 0"/>
        <geometry>
          <sphere radius="0.009" />
        </geometry>
      </collision> -->
    <!--   end simple shape approximation of f2 -->
    <!-- begin visual shape approximation of f2 -->
    <visual>
      <origin rpy="0 1.57079632679 0" xyz="0.024 0 0"/>
      <geometry>
        <cylinder length="0.057" radius="0.009"/>
      </geometry>
      <material name="left_sandia_hand_skin_suntan">
        <color rgba="0.8 0.6 0.3 1.0"/>
      </material>
    </visual>
    <visual>
      <origin rpy="0 0 0" xyz="0.052 0 0"/>
      <geometry>
        <sphere radius="0.009"/>
      </geometry>
      <material name="left_sandia_hand_skin_suntan">
        <color rgba="0.8 0.6 0.3 1.0"/>
      </material>
    </visual>
    <!-- begin collision mesh of f2    ->
      <collision group="default">
        <origin xyz="0 0 0" rpy="0 0 0"/>
        <geometry>
          <mesh filename="package://sandia_hand_description/meshes/f2.stl"/>
        </geometry>
      </collision>
      <!-   end collision mesh of f2 -->
    <!-- begin visual mesh of f2    ->
      <visual>
        <origin xyz="0 0 0" rpy="0 0 0"/>
        <geometry>
          <mesh filename="package://sandia_hand_description/meshes/f2.stl"/>
        </geometry>
        <material name="${side}_sandia_hand_skin_suntan">
          <color rgba="0.8 0.6 0.3 1.0"/>
        </material>
      </visual>
      <!-   end visual mesh of f2 -->
  </link>
  <link name="left_f2_2_accel">
    <origin rpy="0 0 0" xyz="0 0 0"/>
    <inertial>
      <mass value="0.01"/>
      <origin xyz="0 0 0"/>
      <inertia ixx="0.000001" ixy="0" ixz="0" iyy="0.000001" iyz="0" izz="0.000001"/>
    </inertial>
    <!-- ############ MIT ADDITION ############ -->
    <collision>
      <origin rpy="0 0 0" xyz="0 0 0.01"/>
      <geometry>
        <sphere radius="0"/>
      </geometry>
    </collision>
    <!-- ############    END     ############ -->
  </link>
  <link name="left_f2_2_accel_dummy1">
    <origin rpy="0 0 0" xyz="0 0 0"/>
    <inertial>
      <mass value="0.001"/>
      <origin xyz="0 0 0"/>
      <inertia ixx="0.01" ixy="0" ixz="0" iyy="0.01" iyz="0" izz="0.01"/>
    </inertial>
    <collision>
      <origin rpy="0 0 0" xyz="-0.02 0.0 0.01"/>
      <geometry>
        <sphere radius="0"/>
      </geometry>
    </collision>
  </link>
  <joint name="left_f2_2_accel_dummy1" type="fixed">
    <parent link="left_f2_2"/>
    <child link="left_f2_2_accel_dummy1"/>
    <origin rpy="-1.57079632679 0 0" xyz="0.04 0 0"/>
  </joint>
  <link name="left_f2_2_accel_dummy2">
    <origin rpy="0 0 0" xyz="0 0 0"/>
    <inertial>
      <mass value="0.001"/>
      <origin xyz="0 0 0"/>
      <inertia ixx="0.01" ixy="0" ixz="0" iyy="0.01" iyz="0" izz="0.01"/>
    </inertial>
    <collision>
      <origin rpy="0 0 0" xyz="0.0 0.0 -0.01"/>
      <geometry>
        <sphere radius="0"/>
      </geometry>
    </collision>
  </link>
  <joint name="left_f2_2_accel_dummy2" type="fixed">
    <parent link="left_f2_2"/>
    <child link="left_f2_2_accel_dummy2"/>
    <origin rpy="-1.57079632679 0 0" xyz="0.04 0 0"/>
  </joint>
  <joint name="left_f2_base" type="fixed">
    <parent link="left_palm"/>
    <child link="left_f2_base"/>
    <origin rpy="0 0 -0.3" xyz="0.09 -0.06245 0"/>
  </joint>
  <joint name="left_f2_j1" type="revolute">
    <axis xyz="0 0 1"/>
    <parent link="left_f2_0"/>
    <child link="left_f2_1"/>
    <limit effort="1" lower="-1.57079632679" upper="1.57079632679" velocity="1"/>
    <safety_controller k_position="1000.0" k_velocity="1000.0" soft_lower_limit="-11.57079" soft_upper_limit="11.57079"/>
    <dynamics damping="0.2"/>
    <origin rpy="1.57079632679 0 0" xyz="0.028 0 0"/>
  </joint>
  <joint name="left_f2_j2" type="revolute">
    <axis xyz="0 0 1"/>
    <parent link="left_f2_1"/>
    <child link="left_f2_2"/>
    <origin rpy="0 0 0" xyz="0.05 0 0"/>
    <safety_controller k_position="1000.0" k_velocity="1000.0" soft_lower_limit="-11.57079" soft_upper_limit="11.57079"/>
    <dynamics damping="0.2"/>
    <limit effort="1" lower="-1.57079632679" upper="1.57079632679" velocity="1"/>
  </joint>
  <joint name="left_f2_fixed_accel" type="fixed">
    <parent link="left_f2_base"/>
    <child link="left_f2_fixed_accel"/>
    <origin rpy="0 0 0" xyz="-0.05 0 0"/>
  </joint>
  <joint name="left_f2_1_accel" type="fixed">
    <parent link="left_f2_1"/>
    <child link="left_f2_1_accel"/>
    <origin rpy="-1.57079632679 0 0" xyz="0.03 0 0"/>
  </joint>
  <joint name="left_f2_2_accel" type="fixed">
    <parent link="left_f2_2"/>
    <child link="left_f2_2_accel"/>
    <origin rpy="-1.57079632679 0 0" xyz="0.04 0 0"/>
  </joint>
  <link name="left_f2_knuckle_dummy_contact">
    <origin rpy="0 0 0" xyz="0 0 0"/>
    <inertial>
      <mass value="0.001"/>
      <origin xyz="0 0 0"/>
      <inertia ixx="0.001" ixy="0" ixz="0" iyy="0.001" iyz="0" izz="0.001"/>
    </inertial>
    <collision>
      <origin rpy="0 0 0" xyz="0.058 0 0.034"/>
      <!--TODO: THERE IS A ERROR HERE: xyz needs to be "0.058 0 0.034" instead of "0.1 0 0.05"-->
      <geometry>
        <sphere radius="0"/>
      </geometry>
    </collision>
  </link>
  <joint name="left_f2_knuckle_dummy_contact" type="fixed">
    <parent link="left_f2_base"/>
    <child link="left_f2_knuckle_dummy_contact"/>
    <origin rpy="0 0 0" xyz="-0.05 0 0"/>
  </joint>
  <transmission name="left_f2_j0" type="pr2_mechanism_model/SimpleTransmission">
    <joint name="left_f2_j0"/>
    <actuator name="left_f2_j0_motor"/>
    <mechanicalReduction>1</mechanicalReduction>
  </transmission>
  <transmission name="left_f2_j1" type="pr2_mechanism_model/SimpleTransmission">
    <joint name="left_f2_j1"/>
    <actuator name="left_f2_j1_motor"/>
    <mechanicalReduction>1</mechanicalReduction>
  </transmission>
  <transmission name="left_f2_j2" type="pr2_mechanism_model/SimpleTransmission">
    <joint name="left_f2_j2"/>
    <actuator name="left_f2_j2_motor"/>
    <mechanicalReduction>1</mechanicalReduction>
  </transmission>
  <link name="left_f3_base">
    <origin rpy="0 0 0" xyz="0 0 0"/>
    <inertial>
      <mass value="0.35"/>
      <origin xyz="0 0 0"/>
      <inertia ixx="0.01" ixy="0" ixz="0" iyy="0.01" iyz="0" izz="0.01"/>
    </inertial>
  </link>
  <link name="left_f3_fixed_accel">
    <origin rpy="0 0 0" xyz="0 0 0"/>
    <inertial>
      <mass value="0.001"/>
      <origin xyz="0 0 0"/>
      <inertia ixx="0.01" ixy="0" ixz="0" iyy="0.01" iyz="0" izz="0.01"/>
    </inertial>
  </link>
  <link name="left_f3_0">
    <origin rpy="0 0 0" xyz="0 0 0"/>
    <inertial>
      <mass value="0.05"/>
      <origin xyz="0 0 0"/>
      <inertia ixx="0.01" ixy="0" ixz="0" iyy="0.01" iyz="0" izz="0.01"/>
    </inertial>
    <!-- begin simple shape approximation of f0 -->
    <!-- <collision group="default">
        <origin xyz="0 0 0.003" rpy="0 0 0"/>
        <geometry>
          <cylinder radius="0.015" length="0.023" />
        </geometry>
      </collision> -->
    <!-- <collision group="other">
        <origin xyz="0.011 0 0.003" rpy="${M_pi/2} 0 0"/>
        <geometry>
          <cylinder radius="0.01" length="0.023" />
        </geometry>
      </collision> -->
    <!--   end simple shape approximation of f0 -->
    <!-- begin visual shape approximation of f0 -->
    <visual>
      <origin rpy="0 0 0" xyz="0 0 0.003"/>
      <geometry>
        <cylinder length="0.023" radius="0.015"/>
      </geometry>
      <material name="left_sandia_hand_skin_suntan">
        <color rgba="0.7 0.4 0.2 1.0"/>
      </material>
    </visual>
    <visual>
      <origin rpy="1.57079632679 0 0" xyz="0.011 0 0.003"/>
      <geometry>
        <cylinder length="0.023" radius="0.01"/>
      </geometry>
      <material name="left_sandia_hand_skin_suntan">
        <color rgba="0.7 0.4 0.2 1.0"/>
      </material>
    </visual>
    <!--   end visual shape approximation of f0 -->
    <!-- begin collision mesh of f0 ->
      <collision group="default">
        <origin xyz="0 0 0" rpy="0 0 0"/>
        <geometry>
          <mesh filename="package://sandia_hand_description/meshes/f0.stl"/>
        </geometry>
      </collision>
      <!-   end collision mesh of f0 -->
    <!-- begin visual mesh of f0 ->
      <visual>
        <origin xyz="0 0 0" rpy="0 0 0"/>
        <geometry>
          <mesh filename="package://sandia_hand_description/meshes/f0.stl"/>
        </geometry>
        <material name="${side}_sandia_hand_skin_suntan">
          <color rgba="0.7 0.4 0.2 1.0"/>
        </material>
      </visual>
      <!-   end visual mesh of f0 -->
  </link>
  <link name="left_f3_1">
    <origin rpy="0 0 0" xyz="0 0 0"/>
    <inertial>
      <mass value="0.05"/>
      <origin xyz="0 0 0"/>
      <inertia ixx="0.01" ixy="0" ixz="0" iyy="0.01" iyz="0" izz="0.01"/>
    </inertial>
    <!-- begin simple shape approximation of f1 -->
    <!-- <collision group="default">
        <origin xyz="0.024 0 0" rpy="0 ${M_pi/2} 0"/>
        <geometry>
          <cylinder radius="0.01" length="0.067" />
        </geometry>
      </collision> -->
    <!--   end simple shape approximation of f1 -->
    <!-- begin visual shape approximation of f1 -->
    <visual>
      <origin rpy="0 1.57079632679 0" xyz="0.024 0 0"/>
      <geometry>
        <cylinder length="0.067" radius="0.01"/>
      </geometry>
      <material name="left_sandia_hand_skin">
        <color rgba="0.835 0.655 0.345 1.0"/>
      </material>
    </visual>
    <!--   end visual shape approximation of f1 -->
    <!-- begin collision mesh of f1 ->
      <collision group="default">
        <origin xyz="0 0 0" rpy="0 0 0"/>
        <geometry>
          <mesh filename="package://sandia_hand_description/meshes/f1.stl"/>
        </geometry>
      </collision>
      <!-   end collision mesh of f1 -->
    <!-- begin visual mesh of f1 ->
      <visual>
        <origin xyz="0 0 0" rpy="0 0 0"/>
        <geometry>
          <mesh filename="package://sandia_hand_description/meshes/f1.stl"/>
        </geometry>
        <material name="${side}_sandia_hand_skin">
          <color rgba="0.835 0.655 0.345 1.0"/>
        </material>
      </visual>
      <!-   end visual mesh of f1 -->
  </link>
  <link name="left_f3_1_accel">
    <origin rpy="0 0 0" xyz="0 0 0"/>
    <inertial>
      <mass value="0.001"/>
      <origin xyz="0 0 0"/>
      <inertia ixx="0.01" ixy="0" ixz="0" iyy="0.01" iyz="0" izz="0.01"/>
    </inertial>
  </link>
  <link name="left_f3_2">
    <origin rpy="0 0 0" xyz="0 0 0"/>
    <inertial>
      <mass value="0.05"/>
      <origin xyz="0 0 0"/>
      <inertia ixx="0.01" ixy="0" ixz="0" iyy="0.01" iyz="0" izz="0.01"/>
    </inertial>
    <!-- begin simple shape approximation of f2 -->
    <!-- <collision group="default">
        <origin xyz="0.024 0 0" rpy="0 ${M_pi/2} 0"/>
        <geometry>
          <cylinder radius="0.009" length="0.057" />
        </geometry>
      </collision> -->
    <!-- <collision group="other">
        <origin xyz="0.052 0 0" rpy="0 0 0"/>
        <geometry>
          <sphere radius="0.009" />
        </geometry>
      </collision> -->
    <!--   end simple shape approximation of f2 -->
    <!-- begin visual shape approximation of f2 -->
    <visual>
      <origin rpy="0 1.57079632679 0" xyz="0.024 0 0"/>
      <geometry>
        <cylinder length="0.057" radius="0.009"/>
      </geometry>
      <material name="left_sandia_hand_skin_suntan">
        <color rgba="0.8 0.6 0.3 1.0"/>
      </material>
    </visual>
    <visual>
      <origin rpy="0 0 0" xyz="0.052 0 0"/>
      <geometry>
        <sphere radius="0.009"/>
      </geometry>
      <material name="left_sandia_hand_skin_suntan">
        <color rgba="0.8 0.6 0.3 1.0"/>
      </material>
    </visual>
    <!-- begin collision mesh of f2    ->
      <collision group="default">
        <origin xyz="0 0 0" rpy="0 0 0"/>
        <geometry>
          <mesh filename="package://sandia_hand_description/meshes/f2.stl"/>
        </geometry>
      </collision>
      <!-   end collision mesh of f2 -->
    <!-- begin visual mesh of f2    ->
      <visual>
        <origin xyz="0 0 0" rpy="0 0 0"/>
        <geometry>
          <mesh filename="package://sandia_hand_description/meshes/f2.stl"/>
        </geometry>
        <material name="${side}_sandia_hand_skin_suntan">
          <color rgba="0.8 0.6 0.3 1.0"/>
        </material>
      </visual>
      <!-   end visual mesh of f2 -->
  </link>
  <link name="left_f3_2_accel">
    <origin rpy="0 0 0" xyz="0 0 0"/>
    <inertial>
      <mass value="0.001"/>
      <origin xyz="0 0 0"/>
      <inertia ixx="0.01" ixy="0" ixz="0" iyy="0.01" iyz="0" izz="0.01"/>
    </inertial>
    <!-- ############ MIT ADDITION ############ -->
    <collision>
      <origin rpy="0 0 0" xyz="0 0 0.01"/>
      <geometry>
        <sphere radius="0"/>
      </geometry>
    </collision>
    <!-- ############    END     ############ -->
  </link>
  <link name="left_f3_2_accel_dummy1">
    <origin rpy="0 0 0" xyz="0 0 0"/>
    <inertial>
      <mass value="0.001"/>
      <origin xyz="0 0 0"/>
      <inertia ixx="0.01" ixy="0" ixz="0" iyy="0.01" iyz="0" izz="0.01"/>
    </inertial>
    <collision>
      <origin rpy="0 0 0" xyz="-0.02 0.0 0.01"/>
      <geometry>
        <sphere radius="0"/>
      </geometry>
    </collision>
  </link>
  <joint name="left_f3_2_accel_dummy1" type="fixed">
    <parent link="left_f3_2"/>
    <child link="left_f3_2_accel_dummy1"/>
    <origin rpy="-1.57079632679 0 0" xyz="0.04 0 0"/>
  </joint>
  <link name="left_f3_2_accel_dummy2">
    <origin rpy="0 0 0" xyz="0 0 0"/>
    <inertial>
      <mass value="0.001"/>
      <origin xyz="0 0 0"/>
      <inertia ixx="0.01" ixy="0" ixz="0" iyy="0.01" iyz="0" izz="0.01"/>
    </inertial>
    <collision>
      <origin rpy="0 0 0" xyz="0.0 0.0 -0.01"/>
      <geometry>
        <sphere radius="0"/>
      </geometry>
    </collision>
  </link>
  <joint name="left_f3_2_accel_dummy2" type="fixed">
    <parent link="left_f3_2"/>
    <child link="left_f3_2_accel_dummy2"/>
    <origin rpy="-1.57079632679 0 0" xyz="0.04 0 0"/>
  </joint>
  <joint name="left_f3_base" type="fixed">
    <parent link="left_palm"/>
    <child link="left_f3_base"/>
    <origin rpy="0 -1.57079632679 2.3562" xyz="0.03995 0.04383 0.014"/>
  </joint>
  <joint name="left_f3_j0" type="revolute">
    <axis xyz="0 0 -1"/>
    <parent link="left_f3_base"/>
    <child link="left_f3_0"/>
    <limit effort="1" lower="-0.785398163397" upper="0.785398163397" velocity="1"/>
    <safety_controller k_position="1000.0" k_velocity="1000.0" soft_lower_limit="-11.57079" soft_upper_limit="11.57079"/>
    <dynamics damping="0.2"/>
    <origin rpy="0 0 0" xyz="0 0 0"/>
  </joint>
  <joint name="left_f3_j1" type="revolute">
    <axis xyz="0 0 1"/>
    <parent link="left_f3_0"/>
    <child link="left_f3_1"/>
    <limit effort="1" lower="-1.57079632679" upper="1.57079632679" velocity="1"/>
    <safety_controller k_position="1000.0" k_velocity="1000.0" soft_lower_limit="-11.57079" soft_upper_limit="11.57079"/>
    <dynamics damping="0.2"/>
    <origin rpy="1.57079632679 0 0" xyz="0.028 0 0"/>
  </joint>
  <joint name="left_f3_j2" type="revolute">
    <axis xyz="0 0 1"/>
    <parent link="left_f3_1"/>
    <child link="left_f3_2"/>
    <origin rpy="0 0 0" xyz="0.05 0 0"/>
    <safety_controller k_position="1000.0" k_velocity="1000.0" soft_lower_limit="-11.57079" soft_upper_limit="11.57079"/>
    <dynamics damping="0.2"/>
    <limit effort="1" lower="-1.57079632679" upper="1.57079632679" velocity="1"/>
  </joint>
  <joint name="left_f3_fixed_accel" type="fixed">
    <parent link="left_f3_base"/>
    <child link="left_f3_fixed_accel"/>
    <origin rpy="0 0 0" xyz="-0.05 0 0"/>
  </joint>
  <joint name="left_f3_1_accel" type="fixed">
    <parent link="left_f3_1"/>
    <child link="left_f3_1_accel"/>
    <origin rpy="-1.57079632679 0 0" xyz="0.03 0 0"/>
  </joint>
  <joint name="left_f3_2_accel" type="fixed">
    <parent link="left_f3_2"/>
    <child link="left_f3_2_accel"/>
    <origin rpy="-1.57079632679 0 0" xyz="0.04 0 0"/>
  </joint>
  <transmission name="left_f3_j0" type="pr2_mechanism_model/SimpleTransmission">
    <joint name="left_f3_j0"/>
    <actuator name="left_f3_j0_motor"/>
    <mechanicalReduction>1</mechanicalReduction>
  </transmission>
  <transmission name="left_f3_j1" type="pr2_mechanism_model/SimpleTransmission">
    <joint name="left_f3_j1"/>
    <actuator name="left_f3_j1_motor"/>
    <mechanicalReduction>1</mechanicalReduction>
  </transmission>
  <transmission name="left_f3_j2" type="pr2_mechanism_model/SimpleTransmission">
    <joint name="left_f3_j2"/>
    <actuator name="left_f3_j2_motor"/>
    <mechanicalReduction>1</mechanicalReduction>
  </transmission>
  <joint name="left_f0_j0" type="revolute">
    <axis xyz="0 0 -1"/>
    <parent link="left_f0_base"/>
    <child link="left_f0_0"/>
    <!--    <limit effort="1" lower="-1.57079" upper="1.57079" velocity="1"/>-->
    <limit effort="1" lower="-1.57079632679" upper="0" velocity="1"/>
    <safety_controller k_position="1000.0" k_velocity="1000.0" soft_lower_limit="-11.57079" soft_upper_limit="11.57079"/>
    <dynamics damping="0.2"/>
    <origin rpy="0 0 0" xyz="0 0 0"/>
  </joint>
  <joint name="left_f1_j0" type="revolute">
    <axis xyz="0 0 -1"/>
    <parent link="left_f1_base"/>
    <child link="left_f1_0"/>
    <!--    <limit effort="1" lower="-1.57079" upper="1.57079" velocity="1"/>-->
    <limit effort="1" lower="-0.09" upper="0.09" velocity="1"/>
    <safety_controller k_position="1000.0" k_velocity="1000.0" soft_lower_limit="-11.57079" soft_upper_limit="11.57079"/>
    <dynamics damping="0.2"/>
    <origin rpy="0 0 0" xyz="0 0 0"/>
  </joint>
  <joint name="left_f2_j0" type="revolute">
    <axis xyz="0 0 -1"/>
    <parent link="left_f2_base"/>
    <child link="left_f2_0"/>
    <!--    <limit effort="1" lower="-1.57079" upper="1.57079" velocity="1"/>-->
    <limit effort="1" lower="0" upper="1.57079632679" velocity="1"/>
    <safety_controller k_position="1000.0" k_velocity="1000.0" soft_lower_limit="-11.57079" soft_upper_limit="11.57079"/>
    <dynamics damping="0.2"/>
    <origin rpy="0 0 0" xyz="0 0 0"/>
  </joint>
</robot>
